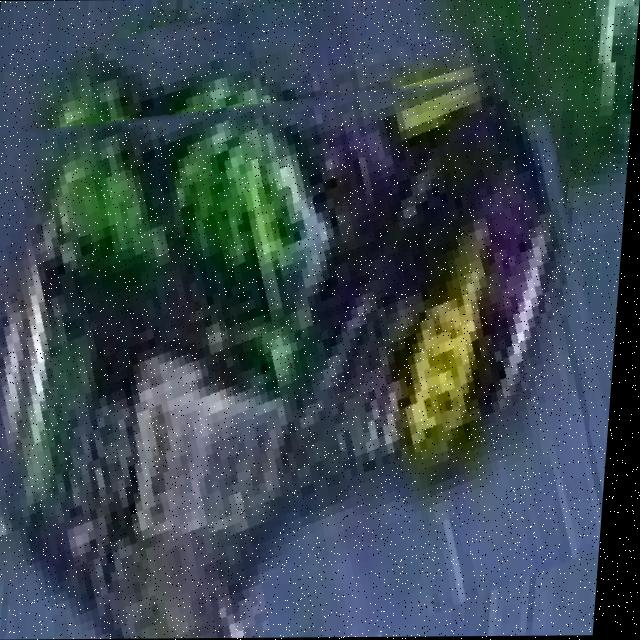can: (0, 75, 592, 639)
